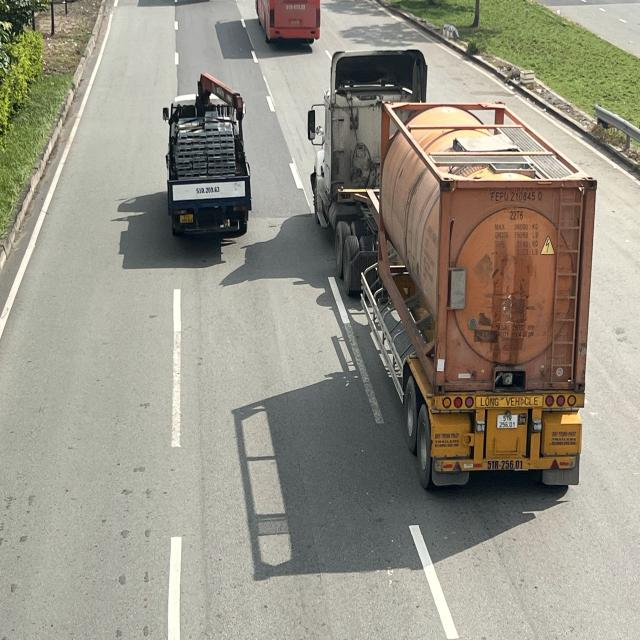coach: (254, 0, 322, 45)
container: (306, 46, 595, 497)
truck: (164, 72, 252, 237)
